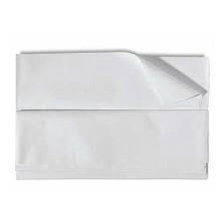tissue: (6, 43, 215, 187)
